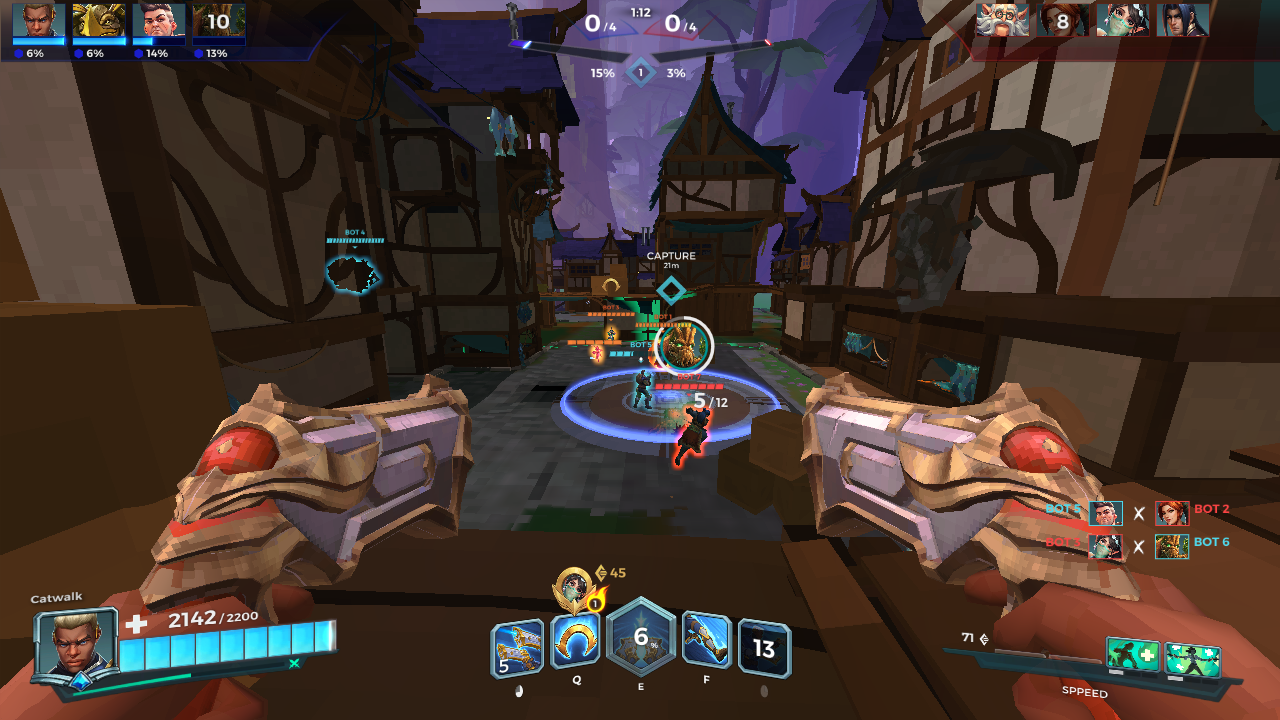model: (670, 399, 711, 474), (606, 326, 616, 342)
